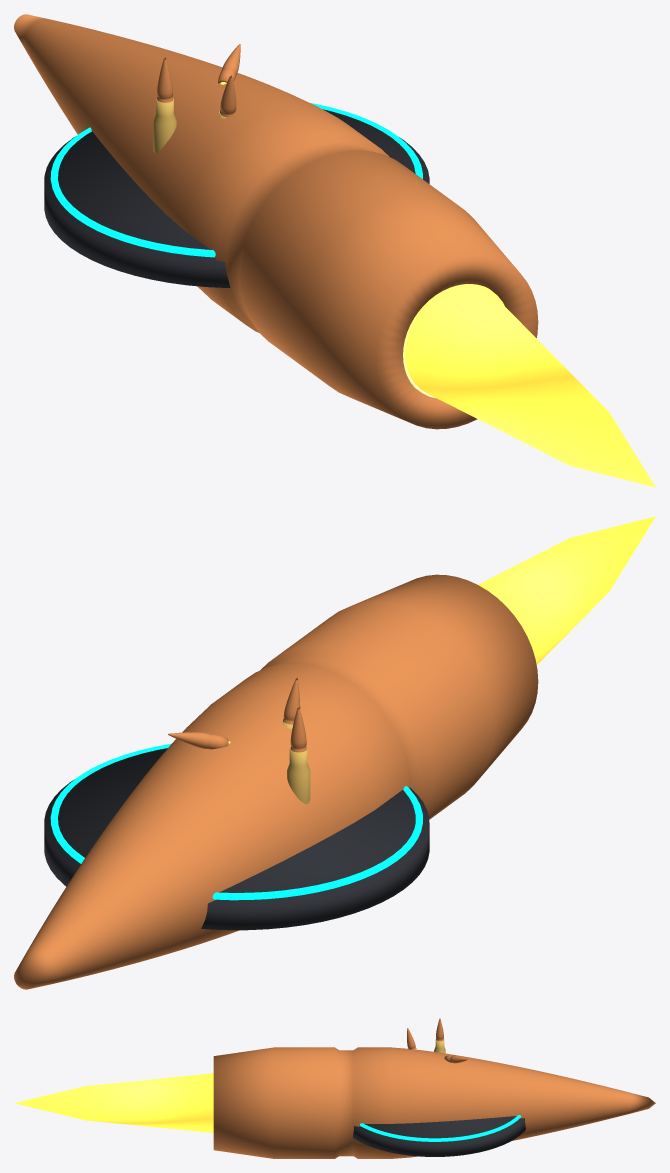
File: Mermi_Taktik_Set_Showcase.glb
3 renders of one model, top to bottom at view 1: azimuth 30°, elevation 25°; view 2: azimuth 150°, elevation 25°; view 3: azimuth 270°, elevation 25°, orthographic. The views are drawn at different scales.
Visible parts, largest first — view 1: Mermi_OyunIci_Tracer_Body, Mermi_OyunIci_Tracer_Streak, Pedestal_Top, Tactical_Pedestal, Pedestal_Neon_Ring, Mermi_Tam_Fisek_762NATO_Case; view 2: Mermi_OyunIci_Tracer_Body, Pedestal_Top, Mermi_OyunIci_Tracer_Streak, Tactical_Pedestal, Pedestal_Neon_Ring, Mermi_Tam_Fisek_762NATO_Case, Mermi_Ucan_Tracer_Projectile_Body; view 3: Mermi_OyunIci_Tracer_Body, Mermi_OyunIci_Tracer_Streak, Tactical_Pedestal, Pedestal_Top, Pedestal_Neon_Ring.
Boxes of the visible parts, <box> form: Mermi_OyunIci_Tracer_Body: <box>14,14,538,429</box>; Mermi_OyunIci_Tracer_Streak: <box>405,286,655,487</box>; Pedestal_Top: <box>58,109,415,249</box>; Tactical_Pedestal: <box>44,136,429,287</box>; Pedestal_Neon_Ring: <box>50,103,422,257</box>; Mermi_Tam_Fisek_762NATO_Case: <box>153,98,176,153</box>; Mermi_OyunIci_Tracer_Body: <box>14,574,538,989</box>; Pedestal_Top: <box>58,748,415,892</box>; Mermi_OyunIci_Tracer_Streak: <box>478,516,655,664</box>; Tactical_Pedestal: <box>44,779,429,930</box>; Pedestal_Neon_Ring: <box>50,743,422,900</box>; Mermi_Tam_Fisek_762NATO_Case: <box>287,748,310,804</box>; Mermi_Ucan_Tracer_Projectile_Body: <box>168,732,228,749</box>; Mermi_OyunIci_Tracer_Body: <box>213,1047,655,1158</box>; Mermi_OyunIci_Tracer_Streak: <box>14,1073,213,1132</box>; Tactical_Pedestal: <box>353,1118,525,1156</box>; Pedestal_Top: <box>365,1116,516,1138</box>; Pedestal_Neon_Ring: <box>360,1115,521,1141</box>.
Size of what is drawn, in the model's own units: 0.19 by 0.1292 by 0.63.
